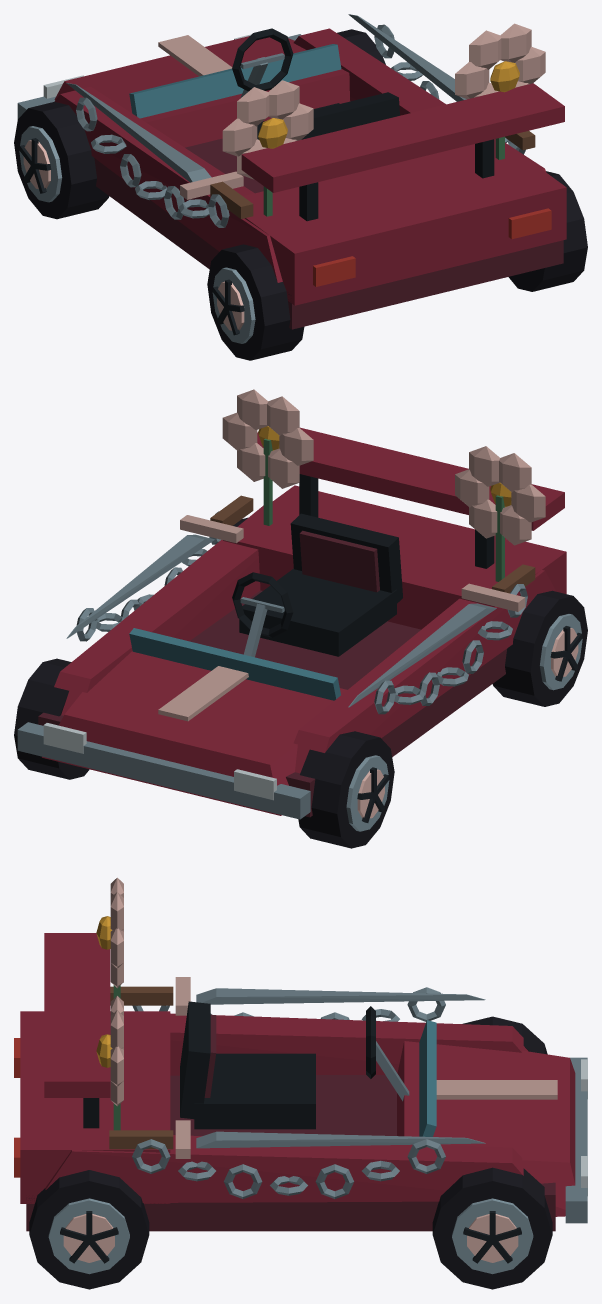
The model's file is kart.glb.
3 renders of one model, top to bottom at view 1: azimuth 30°, elevation 25°; view 2: azimuth 150°, elevation 25°; view 3: azimuth 270°, elevation 25°, orthographic. The views are drawn at different scales.
Visible parts, largest first — view 1: identity-sports-car-sports-car-road-car-body, identity-sports-car-motif-flowers, wheel-front-left, wheel-rear-left, identity-sports-car-motif-swords, identity-sports-car-driver-cockpit, identity-sports-car-motif-chains, wheel-rear-right, wheel-front-right; view 2: identity-sports-car-sports-car-road-car-body, identity-sports-car-driver-cockpit, identity-sports-car-motif-flowers, wheel-front-left, identity-sports-car-motif-swords, wheel-rear-left, identity-sports-car-motif-chains, wheel-front-right; view 3: identity-sports-car-sports-car-road-car-body, identity-sports-car-driver-cockpit, wheel-front-right, wheel-rear-right, identity-sports-car-motif-swords, identity-sports-car-motif-chains, identity-sports-car-motif-flowers, wheel-front-left.
Part boxes in pixels (x1,y1,x2,y2): identity-sports-car-sports-car-road-car-body: (17,28,566,329); identity-sports-car-motif-flowers: (222,23,545,216); wheel-front-left: (14,102,109,219); wheel-rear-left: (207,244,304,360); identity-sports-car-motif-swords: (66,14,535,218); identity-sports-car-driver-cockpit: (232,28,399,139); identity-sports-car-motif-chains: (76,24,525,227); wheel-rear-right: (508,171,587,291); wheel-front-right: (337,29,385,64); identity-sports-car-sports-car-road-car-body: (17,427,566,819); identity-sports-car-driver-cockpit: (232,513,402,657); identity-sports-car-motif-flowers: (222,389,545,581); wheel-front-left: (298,731,394,848); identity-sports-car-motif-swords: (66,495,535,707); wheel-rear-left: (492,590,587,706); identity-sports-car-motif-chains: (76,511,527,714); wheel-front-right: (14,658,89,779); identity-sports-car-sports-car-road-car-body: (14,933,587,1231); identity-sports-car-driver-cockpit: (180,1001,409,1129); wheel-front-right: (432,1167,552,1289); wheel-rear-right: (29,1170,149,1289); identity-sports-car-motif-swords: (109,977,485,1158); identity-sports-car-motif-chains: (132,987,445,1198); identity-sports-car-motif-flowers: (96,877,123,1130); wheel-front-left: (462,1016,547,1054).
Size of the model in its own units: 2.07 by 1.46 by 2.88.
